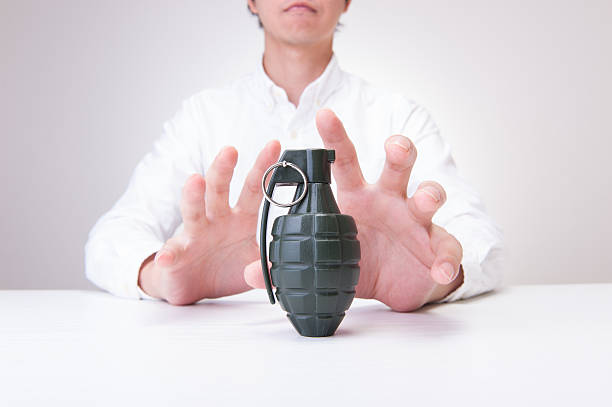e1: (260, 148, 363, 336)
